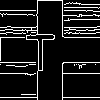T: (25, 25, 55, 71)
